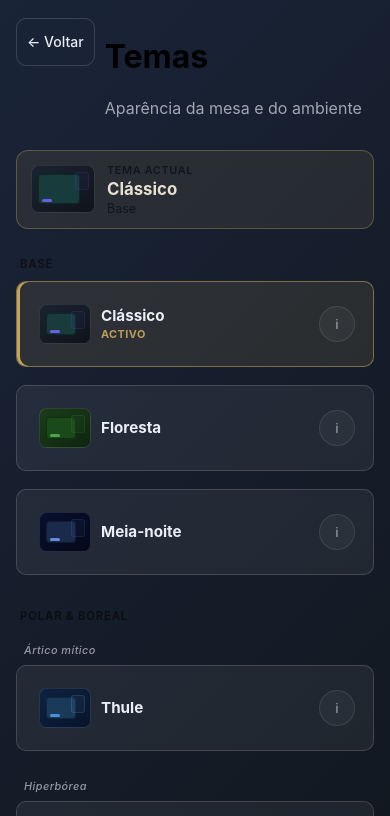
Test: ThemesScreen / Personalizar › shows current theme and selects a built-in with active state
Expected: the element with test id "themes-current" shows "Clássico", [107,179,177,199]
Click the button with test id "theme-select-forest" at (65, 428), box [29,400,319,456]
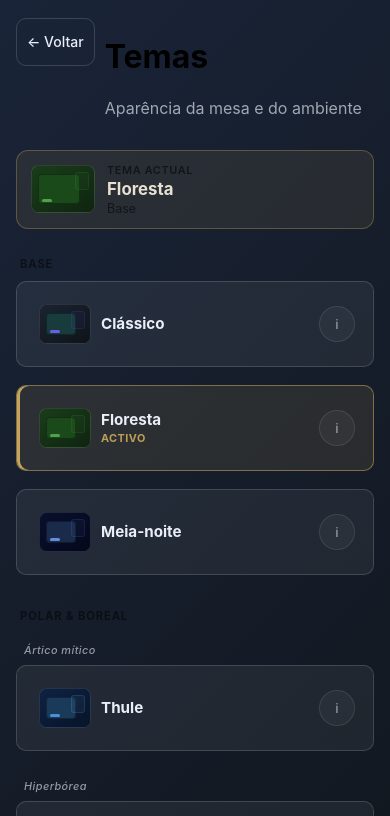
Result: the element with test id "themes-current" shows "Floresta" at [107,179,174,199]
